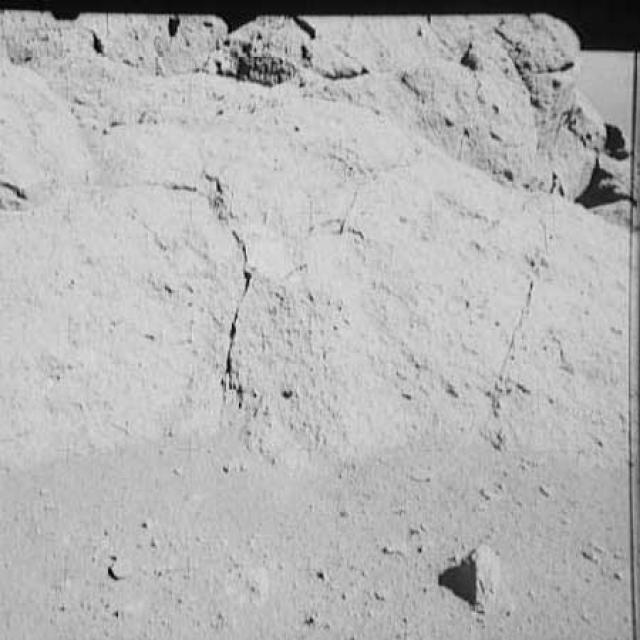rock: (442, 534, 518, 615), (103, 551, 134, 581)
